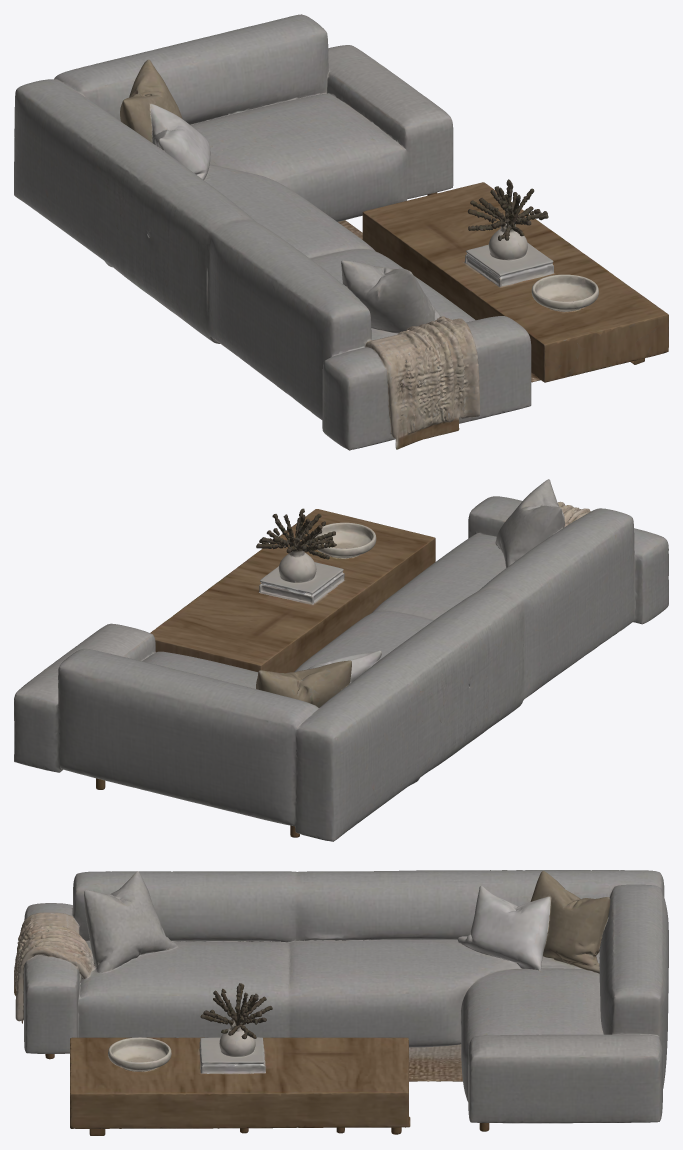
File: sofa.glb
3 views of the same model, one above another, from view 1: azimuth 30°, elevation 25°; view 2: azimuth 150°, elevation 25°; view 3: azimuth 270°, elevation 25° (orthographic). The views are drawn at different scales.
Parts seen in each view (by area): view 1: world; view 2: world; view 3: world.
Part boxes in pixels (x1,y1,x2,y2): world: (14,14,668,450); world: (14,479,668,841); world: (14,870,668,1135).
Size of the model in its own units: 0.5729 by 0.2382 by 1.
1 material, 1 textured.
